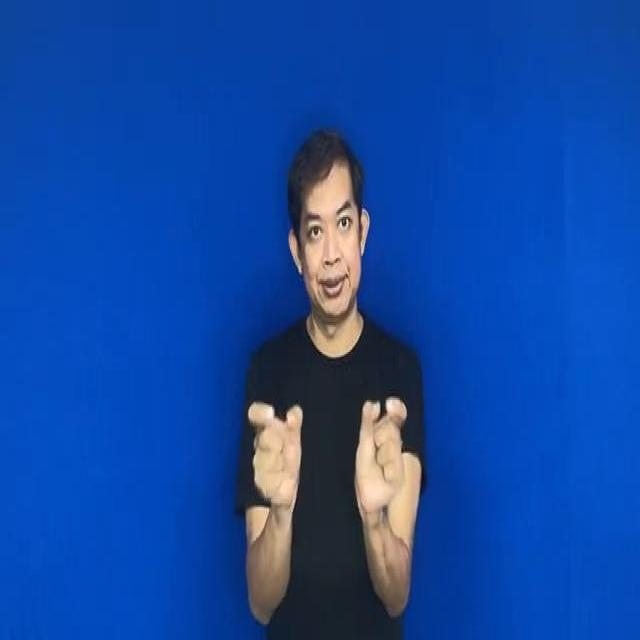crab: (228, 378, 416, 524)
